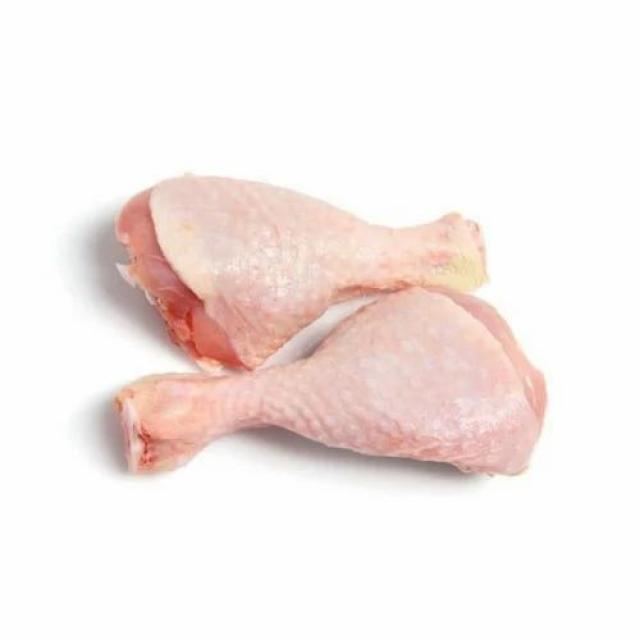leg: (108, 286, 553, 504), (112, 174, 494, 362)
